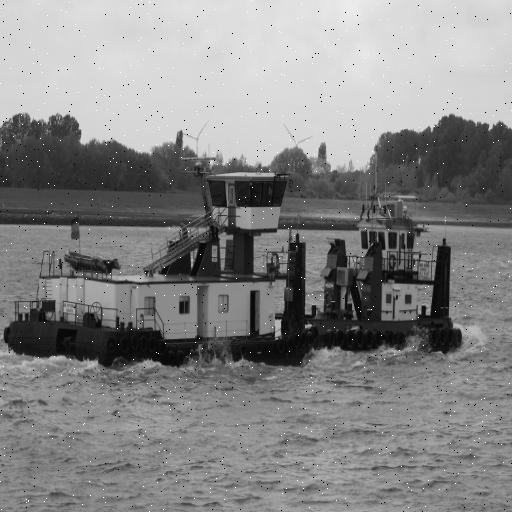tugboat: (3, 151, 312, 380), (276, 184, 466, 365)
